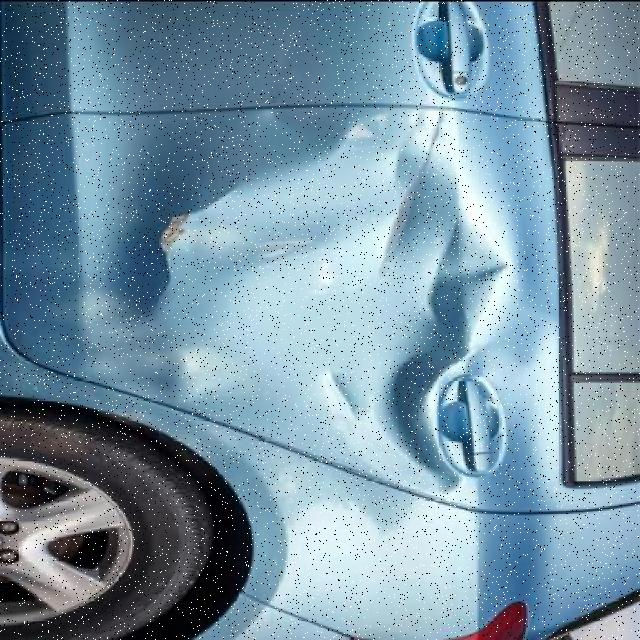damage: (124, 107, 519, 498)
